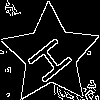H: (25, 29, 82, 86)
